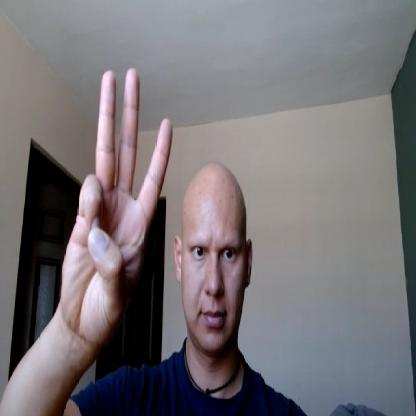W: (62, 64, 177, 340)
